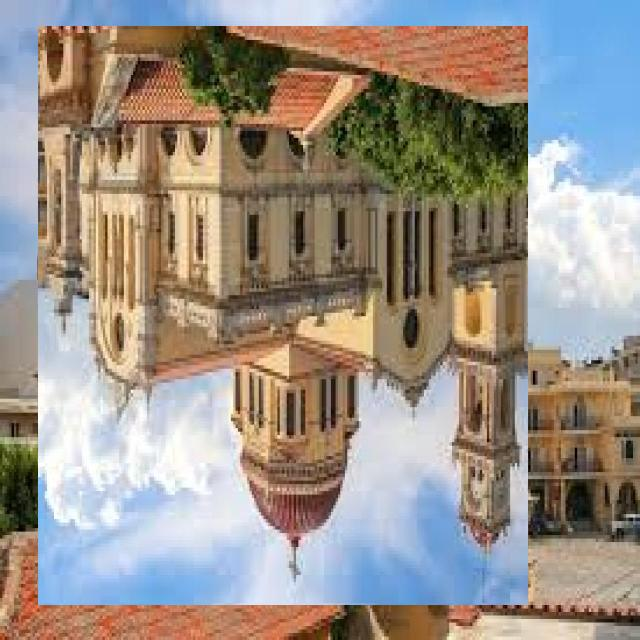Agios Minas: (40, 27, 530, 606)
